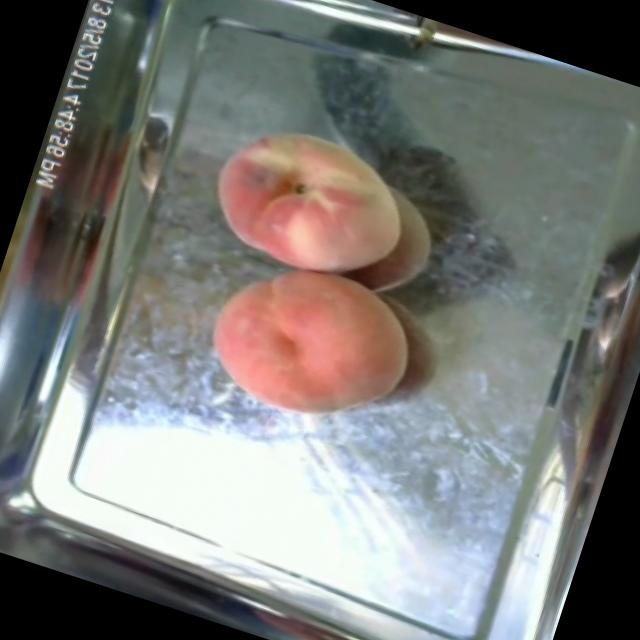Fruit: (186, 238, 436, 454), (187, 99, 433, 307)
